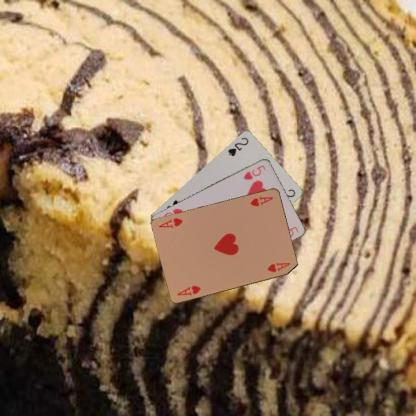2s: (225, 134, 250, 157)
5h: (241, 162, 267, 181)
Ah: (246, 194, 275, 208), (175, 282, 202, 296)
